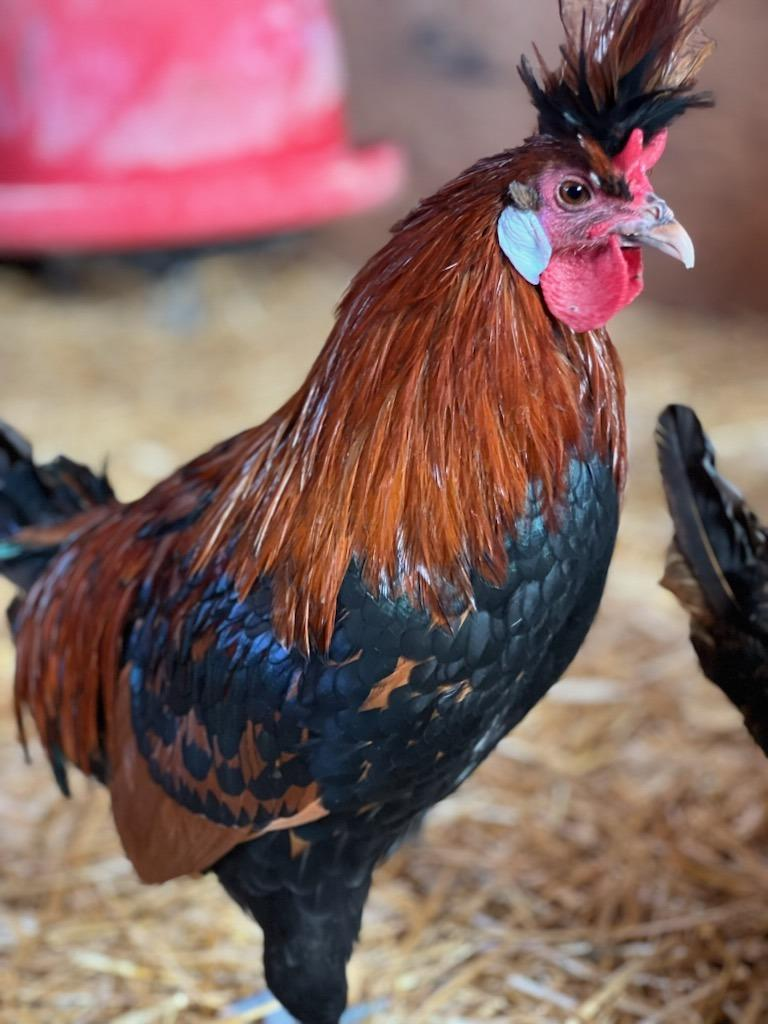AbNormal: (528, 4, 686, 187)
